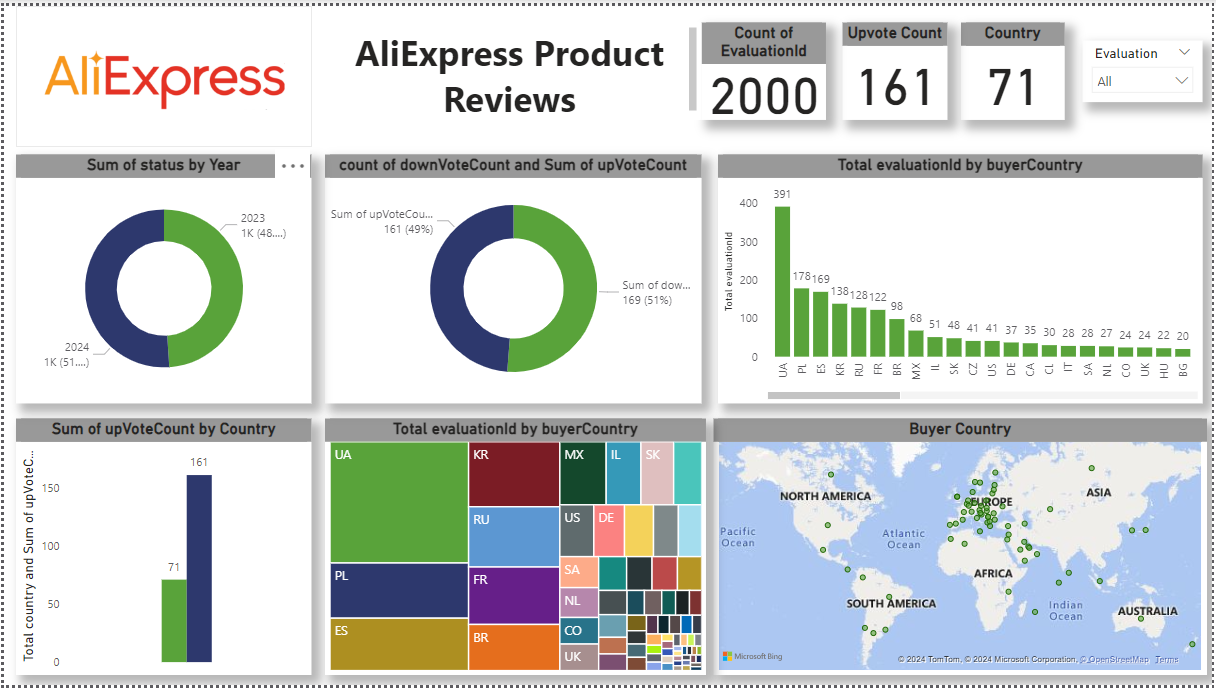

The dashboard page shown, as its layout file describes it:
{"tool":"powerbi","page":{"name":"Page 1","canvas":[1280,720],"ordinal":0},"visuals":[{"type":"slicer","fields":{"Values":["Reviews.Evaluation"]},"box":[1143.6,36.6,127.2,65.2],"z":0},{"type":"clusteredColumnChart","title":"Sum of upVoteCount by Country","fields":{"Y":["Reviews.Total country","Sum(Reviews.upVoteCount)"]},"box":[12.7,437.4,313.4,272],"z":1000},{"type":"card","title":"Country","fields":{"Values":["Reviews.Total country"]},"box":[1014.8,17.5,109.8,103.4],"z":2000},{"type":"card","title":"Upvote Count","fields":{"Values":["Sum(Reviews.upVoteCount)"]},"box":[889.2,17.5,111.3,103.4],"z":3000},{"type":"card","title":"Count of EvaluationId","fields":{"Values":["CountNonNull(Reviews.evaluationId)"]},"box":[739.6,17.5,132,103.4],"z":4000},{"type":"map","title":"Buyer Country","fields":{"Category":["Reviews.buyerCountry"]},"box":[752.4,437.4,523.3,272],"z":5000},{"type":"treemap","fields":{"Group":["Reviews.buyerCountry"],"Values":["Reviews.Total evaluationId"]},"box":[340.4,437.4,404,272],"z":6000},{"type":"donutChart","title":"count of downVoteCount and Sum of upVoteCount","fields":{"Y":["Sum(Reviews.downVoteCount)","Sum(Reviews.upVoteCount)"]},"box":[340.4,157.5,399.2,264],"z":7000},{"type":"donutChart","fields":{"Y":["Sum(Reviews.status)"],"Category":["Reviews.evalData.Variation.Date Hierarchy.Year","Reviews.evalData.Variation.Date Hierarchy.Quarter","Reviews.evalData.Variation.Date Hierarchy.Month","Reviews.evalData.Variation.Date Hierarchy.Day"]},"box":[12.7,157.5,313.4,264],"z":7001},{"type":"clusteredColumnChart","fields":{"Y":["Reviews.Total evaluationId"],"Category":["Reviews.buyerCountry"]},"box":[757.1,157.5,513.8,264],"z":7004},{"type":"image","box":[13,0,313,150],"z":7005},{"type":"textbox","box":[340.4,17.5,399.2,103.4],"z":7006}]}

Visuals, with their boxes in screenshot pixels (x1, y1, x2, y2), scaled from the page's 1280x720 canvas onto the 1216x690 screenshot:
slicer - Reviews.Evaluation: {"x1": 1086, "y1": 35, "x2": 1207, "y2": 98}
"Sum of upVoteCount by Country" clusteredColumnChart: {"x1": 12, "y1": 419, "x2": 310, "y2": 680}
"Country" card: {"x1": 964, "y1": 17, "x2": 1068, "y2": 116}
"Upvote Count" card: {"x1": 845, "y1": 17, "x2": 950, "y2": 116}
"Count of EvaluationId" card: {"x1": 703, "y1": 17, "x2": 828, "y2": 116}
"Buyer Country" map: {"x1": 715, "y1": 419, "x2": 1212, "y2": 680}
treemap - Reviews.buyerCountry x Reviews.Total evaluationId: {"x1": 323, "y1": 419, "x2": 707, "y2": 680}
"count of downVoteCount and Sum of upVoteCount" donutChart: {"x1": 323, "y1": 151, "x2": 703, "y2": 404}
donutChart - Sum(Reviews.status) x Reviews.evalData.Variation.Date Hierarchy.Year: {"x1": 12, "y1": 151, "x2": 310, "y2": 404}
clusteredColumnChart - Reviews.Total evaluationId x Reviews.buyerCountry: {"x1": 719, "y1": 151, "x2": 1207, "y2": 404}
image: {"x1": 12, "y1": 0, "x2": 310, "y2": 144}
textbox: {"x1": 323, "y1": 17, "x2": 703, "y2": 116}
